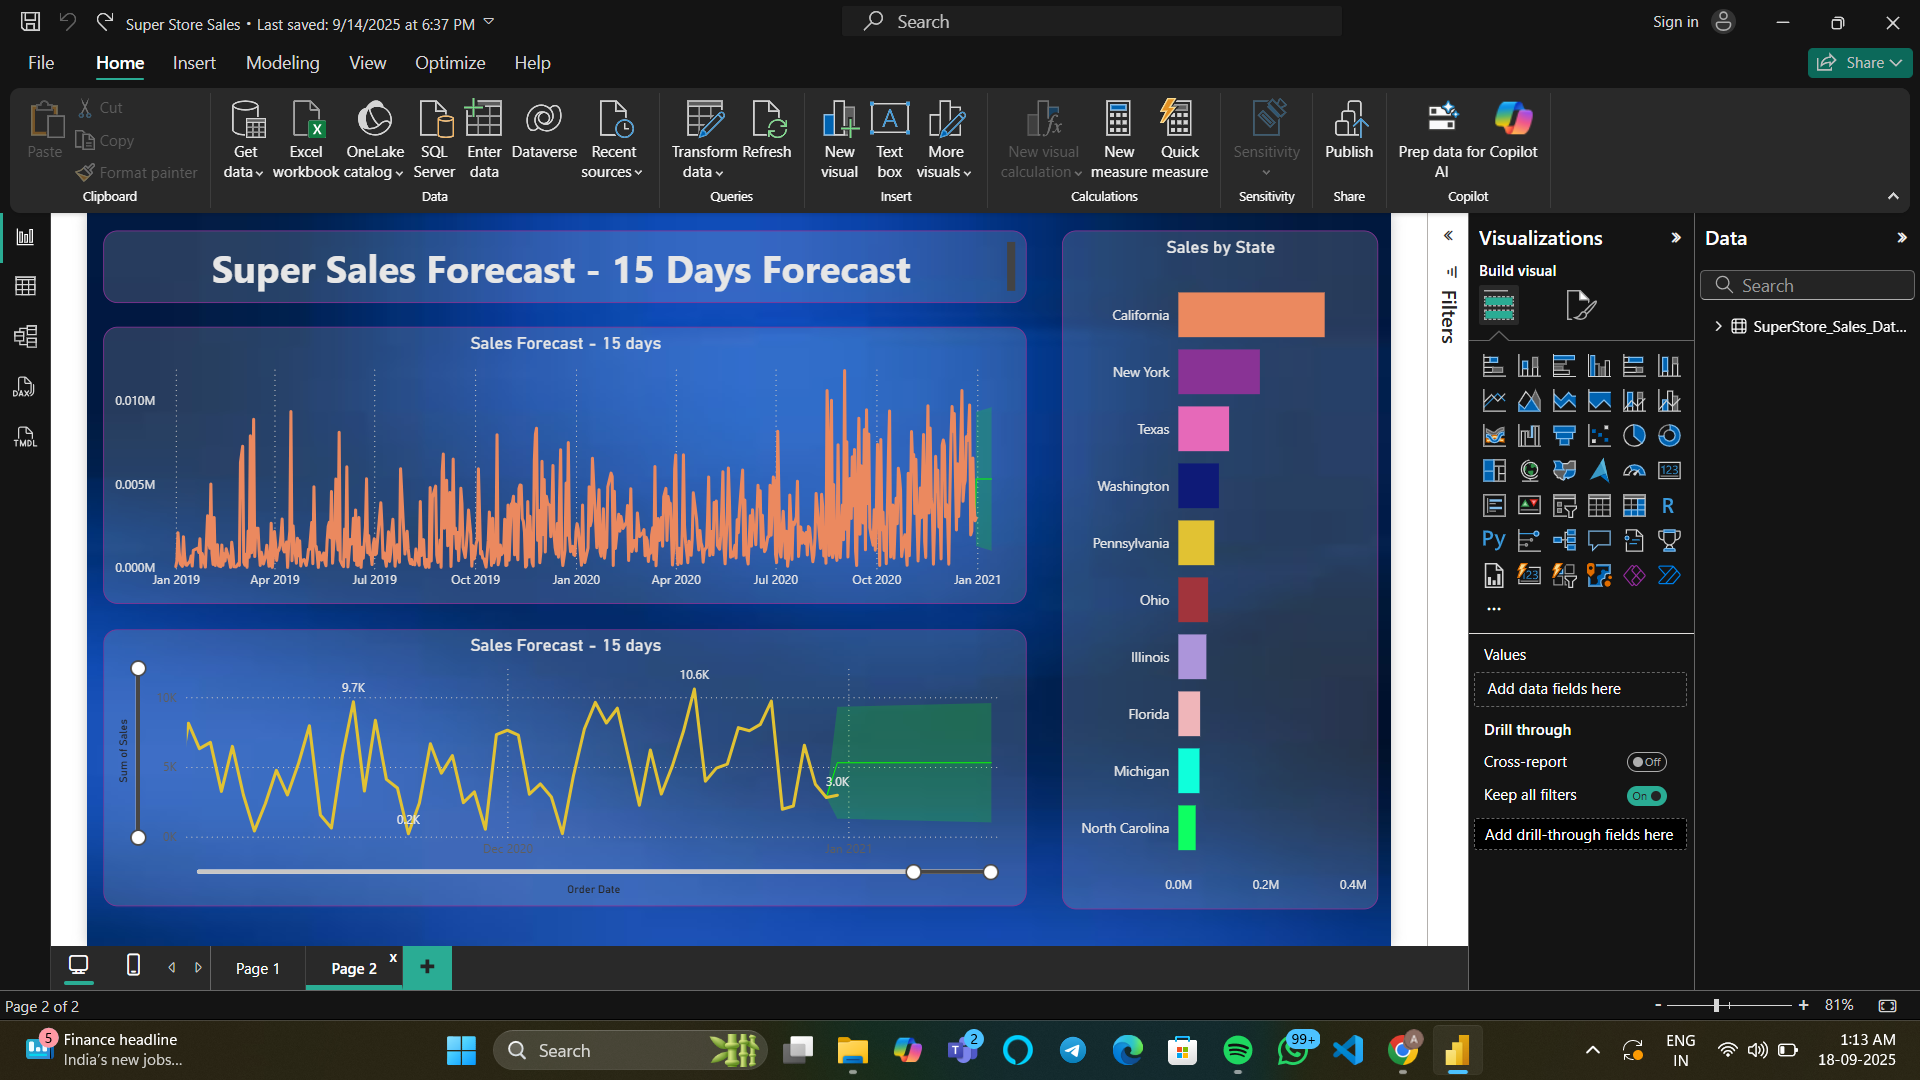

The dashboard page shown, as its layout file describes it:
{"tool":"powerbi","page":{"name":"Page 2","canvas":[1280,720],"ordinal":1},"visuals":[{"type":"lineChart","title":"Sales Forecast - 15 days","fields":{"Y":["Sum(SuperStore_Sales_Dataset (1).Sales)"],"Category":["SuperStore_Sales_Dataset (1).Order Date"]},"box":[16,111.7,906.8,272.4],"z":0},{"type":"lineChart","title":"Sales Forecast - 15 days","fields":{"Y":["Sum(SuperStore_Sales_Dataset (1).Sales)"],"Category":["SuperStore_Sales_Dataset (1).Order Date"]},"box":[16,408.6,906.8,272.4],"z":1000},{"type":"clusteredBarChart","title":"Sales by State","fields":{"Category":["SuperStore_Sales_Dataset (1).State"],"Y":["Sum(SuperStore_Sales_Dataset (1).Sales)"]},"box":[957.1,17.2,310.4,666.3],"z":2000},{"type":"textbox","box":[16,17.2,906.8,71.2],"z":3000}]}

Visuals, with their boxes on the page's 1280x720 design canvas (x1, y1, x2, y2). These are canvas units, not pixel positions in the 1920x1080 screenshot, which may show the page scaled, cropped or inside an application window:
"Sales Forecast - 15 days" lineChart: (16,112,923,384)
"Sales Forecast - 15 days" lineChart: (16,409,923,681)
"Sales by State" clusteredBarChart: (957,17,1268,684)
textbox: (16,17,923,88)
